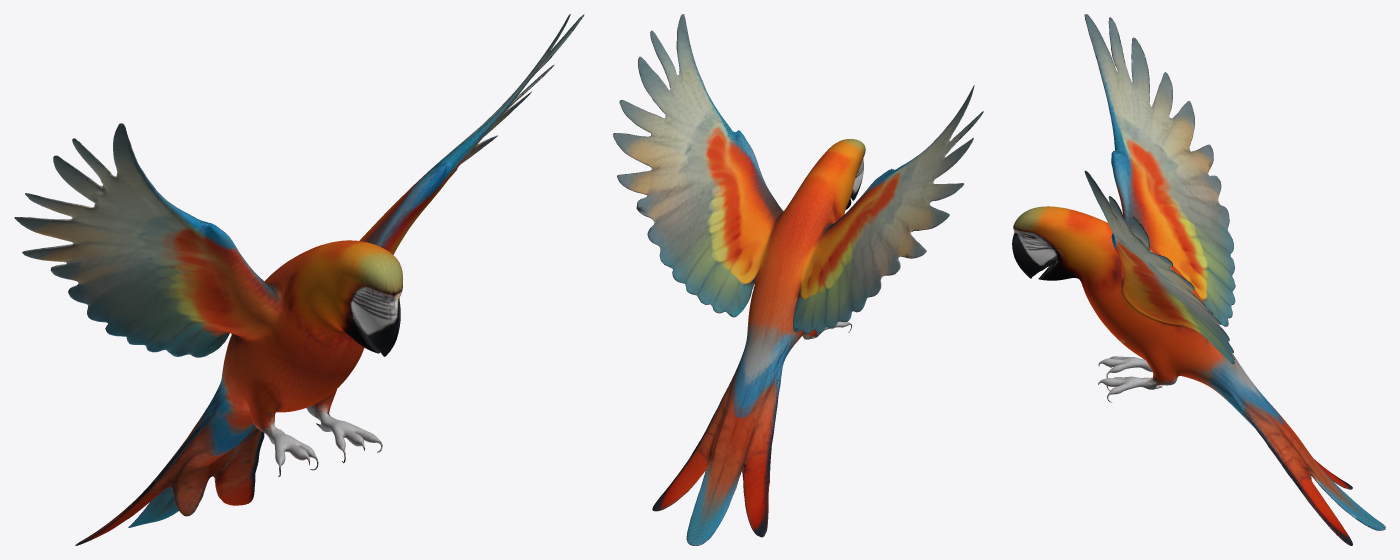
File: parrot_wings_up.glb
3 views of the same model, side by side, from view 1: azimuth 30°, elevation 25°; view 2: azimuth 150°, elevation 25°; view 3: azimuth 270°, elevation 25° (orthographic). The views are drawn at different scales.
Visible parts, largest first — view 1: model; view 2: model; view 3: model.
Part boxes in pixels (x1=…): model: x1=14, y1=14, x2=584, y2=545; model: x1=613, y1=14, x2=983, y2=545; model: x1=1012, y1=14, x2=1385, y2=545.
Bounding box in the file's own units: 1.72 × 1.9 × 1.47.
1 material, 1 textured.
